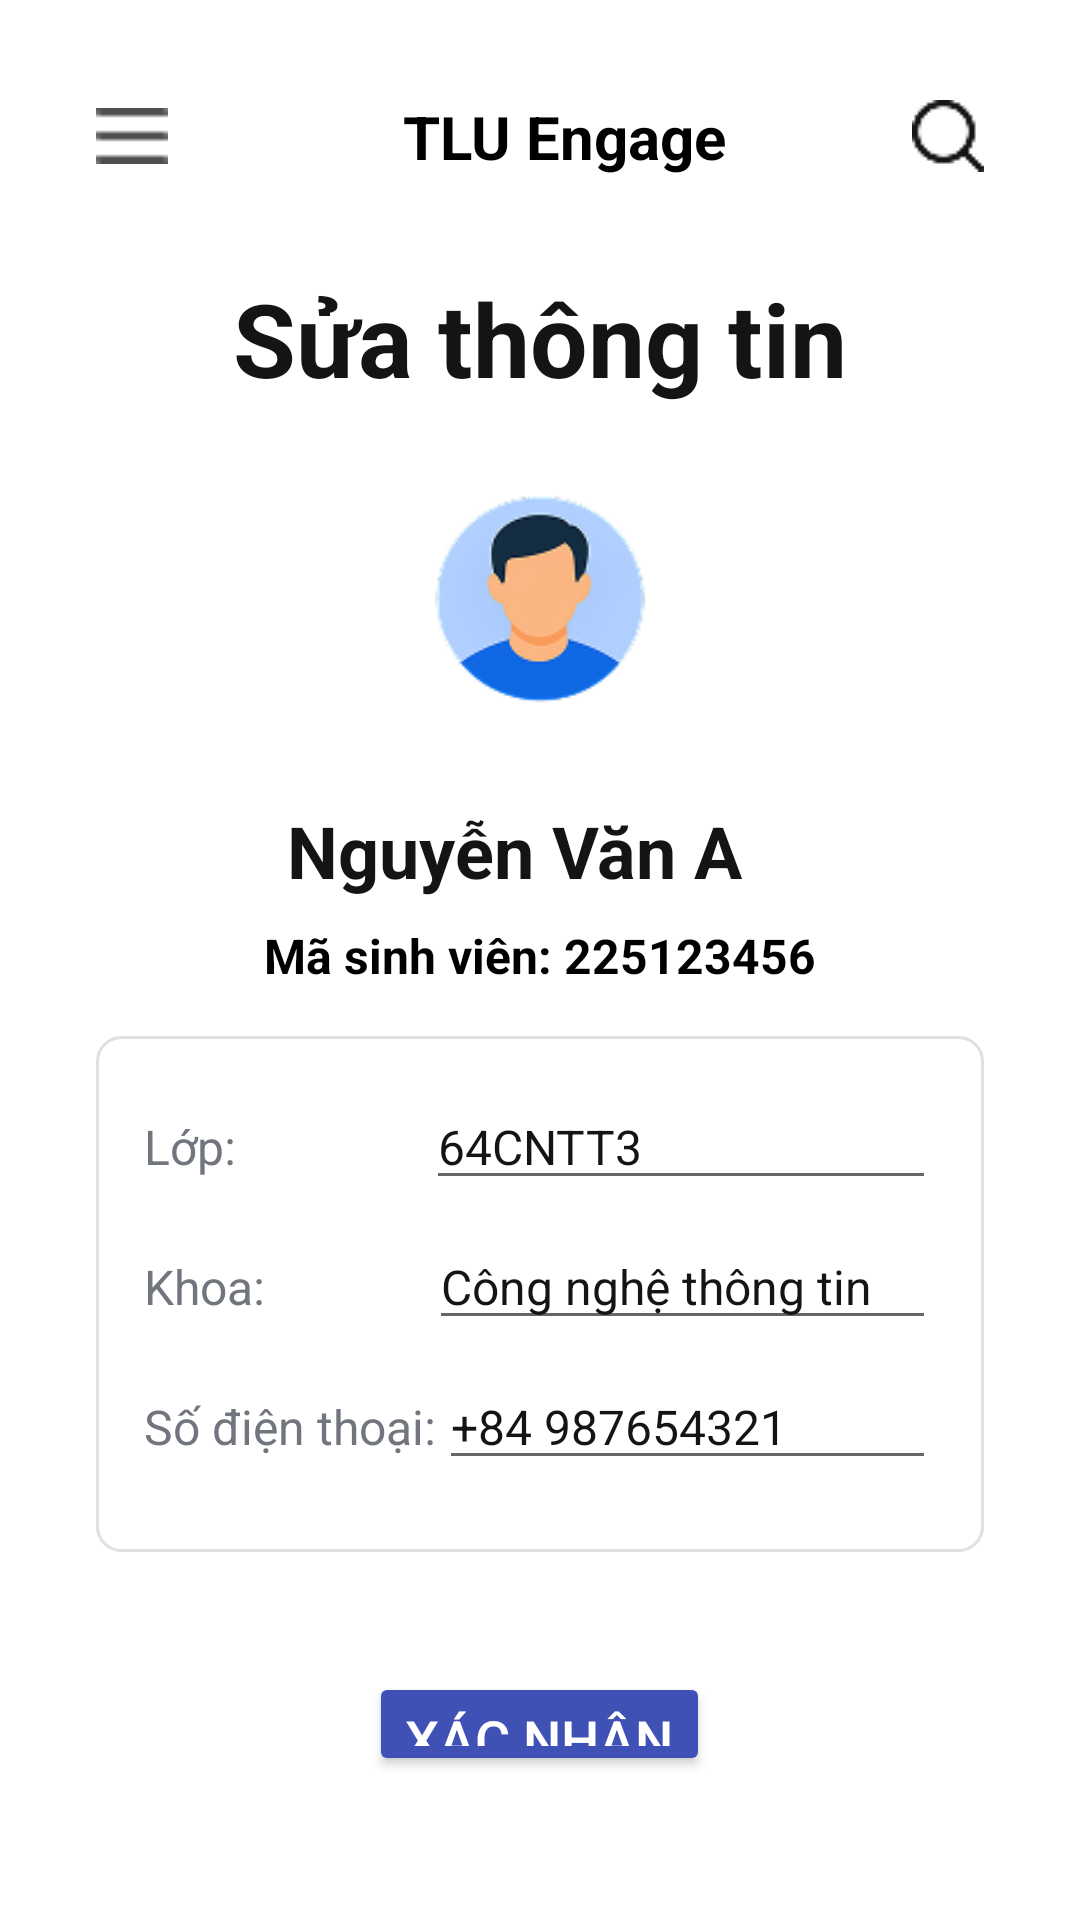

Screen size 1080px×1920px. Icon name, then its box in pixels as detection(x1, y1, x2, y2):
menu: detection(96, 108, 168, 164)
profile: detection(436, 497, 645, 702)
search: detection(912, 100, 984, 172)
